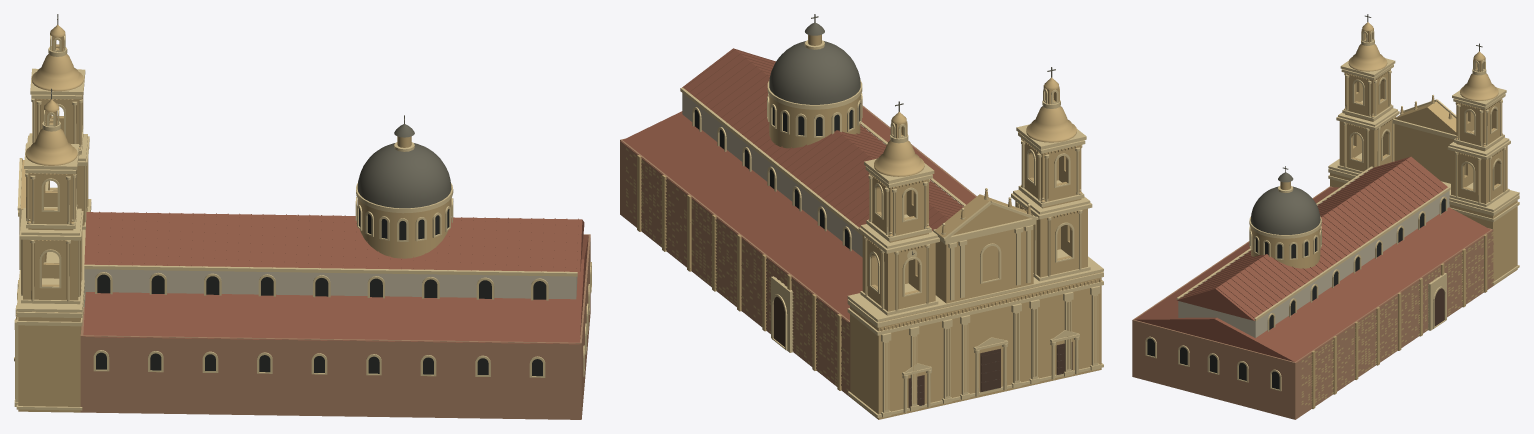
The model's file is catedral-primada-de-colombia-near.glb.
The picture shows the model from 3 angles, left to right: view 1: azimuth 30°, elevation 25°; view 2: azimuth 150°, elevation 25°; view 3: azimuth 270°, elevation 25°; orthographic projection. The views are drawn at different scales.
Visible parts, largest first — view 1: catedral-primada-de-colombia-0-roof, catedral-primada-de-colombia-0-rubble, catedral-primada-de-colombia-0-stone, catedral-primada-de-colombia-0-trim, catedral-primada-de-colombia-0-plaster, catedral-primada-de-colombia-0-metal, catedral-primada-de-colombia-0-recess; view 2: catedral-primada-de-colombia-0-stone, catedral-primada-de-colombia-0-trim, catedral-primada-de-colombia-0-roof, catedral-primada-de-colombia-0-rubble, catedral-primada-de-colombia-0-metal, catedral-primada-de-colombia-0-plaster, catedral-primada-de-colombia-0-wood, catedral-primada-de-colombia-0-recess; view 3: catedral-primada-de-colombia-0-roof, catedral-primada-de-colombia-0-stone, catedral-primada-de-colombia-0-rubble, catedral-primada-de-colombia-0-trim, catedral-primada-de-colombia-0-plaster, catedral-primada-de-colombia-0-metal, catedral-primada-de-colombia-0-recess, catedral-primada-de-colombia-0-wood.
Part boxes in pixels (x1=…): catedral-primada-de-colombia-0-roof: x1=83, y1=211, x2=588, y2=344; catedral-primada-de-colombia-0-rubble: x1=80, y1=234, x2=590, y2=419; catedral-primada-de-colombia-0-stone: x1=15, y1=24, x2=451, y2=412; catedral-primada-de-colombia-0-trim: x1=14, y1=35, x2=591, y2=410; catedral-primada-de-colombia-0-plaster: x1=84, y1=269, x2=577, y2=307; catedral-primada-de-colombia-0-metal: x1=51, y1=14, x2=451, y2=208; catedral-primada-de-colombia-0-recess: x1=96, y1=208, x2=546, y2=376; catedral-primada-de-colombia-0-stone: x1=626, y1=34, x2=1101, y2=419; catedral-primada-de-colombia-0-trim: x1=680, y1=40, x2=1103, y2=417; catedral-primada-de-colombia-0-roof: x1=620, y1=48, x2=975, y2=322; catedral-primada-de-colombia-0-rubble: x1=620, y1=105, x2=976, y2=396; catedral-primada-de-colombia-0-metal: x1=769, y1=14, x2=1061, y2=405; catedral-primada-de-colombia-0-plaster: x1=682, y1=93, x2=963, y2=257; catedral-primada-de-colombia-0-wood: x1=773, y1=296, x2=1072, y2=408; catedral-primada-de-colombia-0-recess: x1=694, y1=104, x2=859, y2=248; catedral-primada-de-colombia-0-roof: x1=1134, y1=156, x2=1492, y2=362; catedral-primada-de-colombia-0-stone: x1=1251, y1=22, x2=1517, y2=408; catedral-primada-de-colombia-0-rubble: x1=1132, y1=186, x2=1493, y2=419; catedral-primada-de-colombia-0-trim: x1=1145, y1=30, x2=1519, y2=391; catedral-primada-de-colombia-0-plaster: x1=1178, y1=168, x2=1449, y2=337; catedral-primada-de-colombia-0-metal: x1=1250, y1=14, x2=1482, y2=234; catedral-primada-de-colombia-0-recess: x1=1147, y1=198, x2=1445, y2=389; catedral-primada-de-colombia-0-wood: x1=1434, y1=288, x2=1444, y2=326.
Size of the model in its own units: 95.07 by 52 by 80.14.
